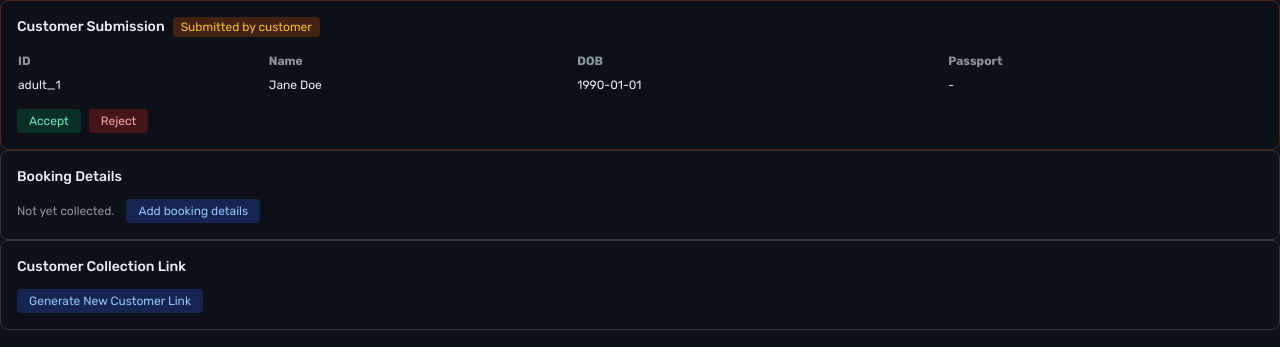
Test: DataIntakeZone › rejects pending booking data
Step 1. Click the button with test id "ops-reject-btn" → point(118, 121), box [89, 109, 148, 133]
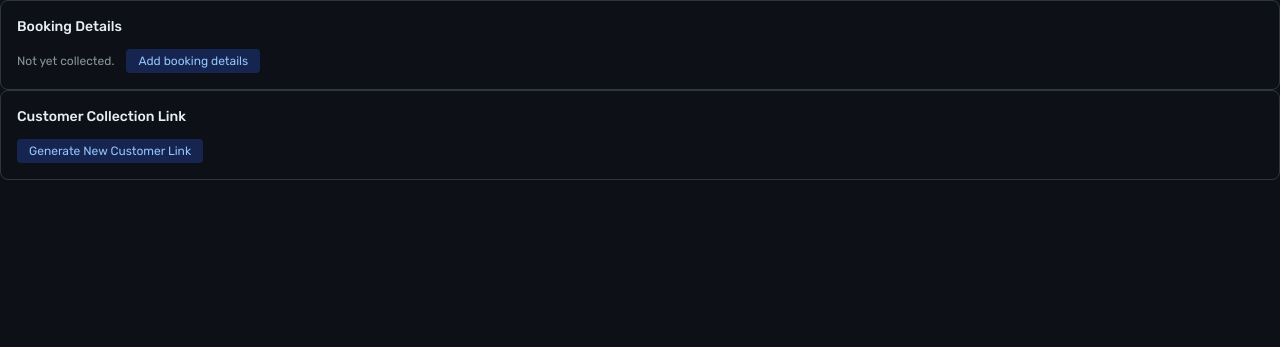
Expected: the element with test id "ops-pending-review" is gone
